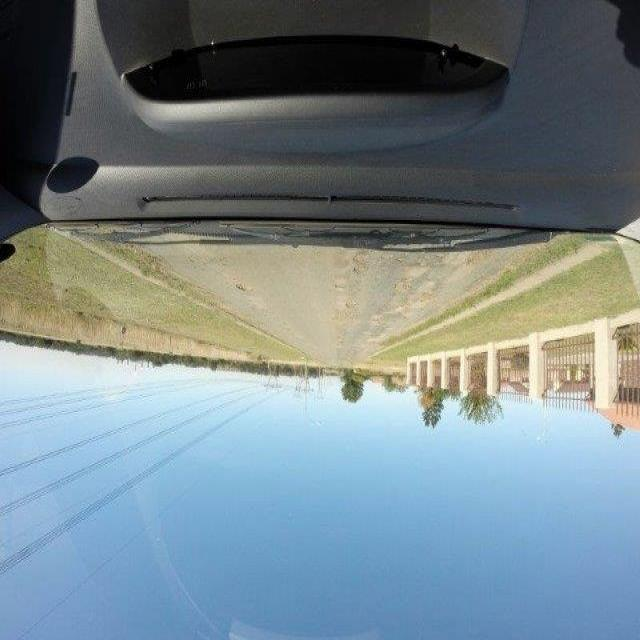lubang: (388, 274, 446, 318), (388, 253, 452, 269), (342, 250, 374, 278), (450, 254, 493, 270), (391, 275, 415, 297), (230, 277, 254, 296), (343, 298, 364, 314)
